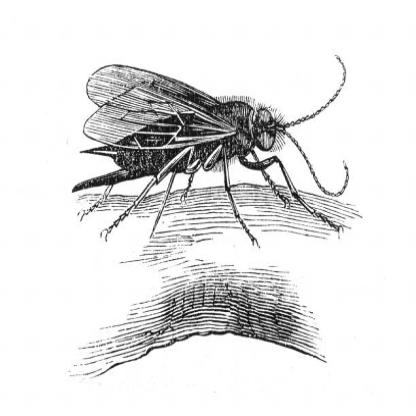sawfly: (67, 49, 350, 255)
